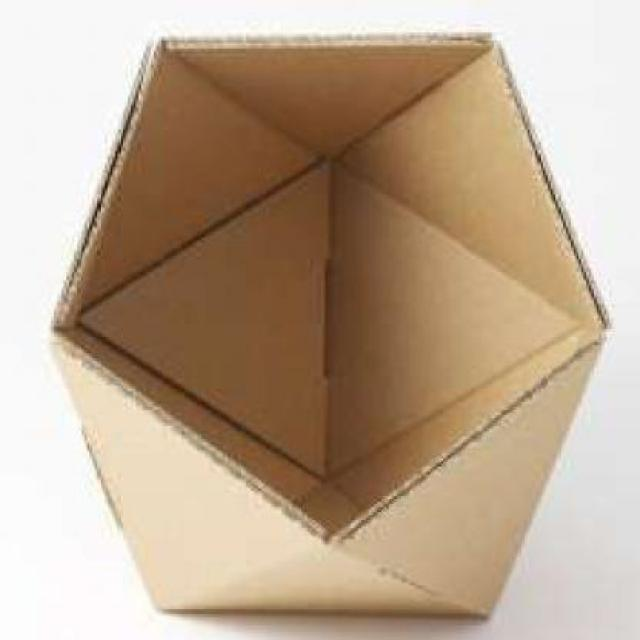box: (46, 11, 620, 640)
